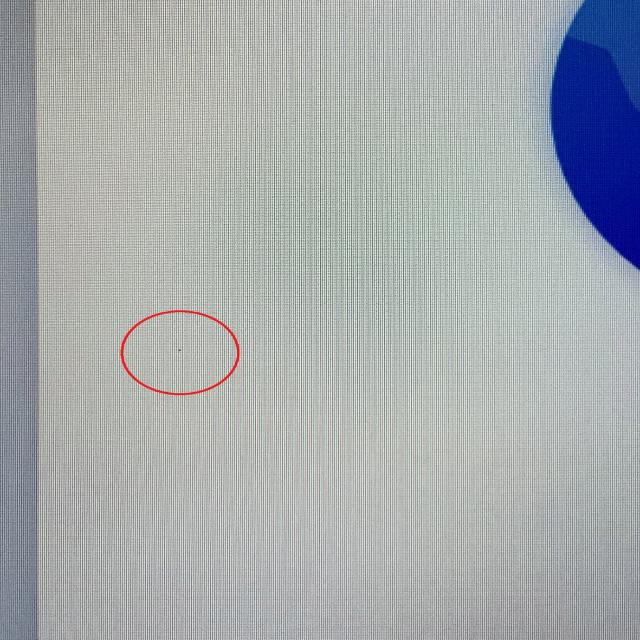Dead pixel: (178, 349, 182, 352)
